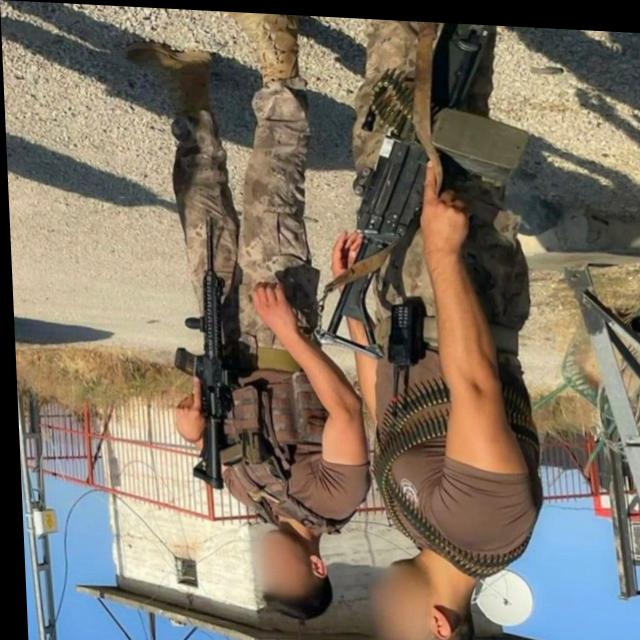poh_personel: (124, 5, 371, 622), (319, 13, 546, 640)
